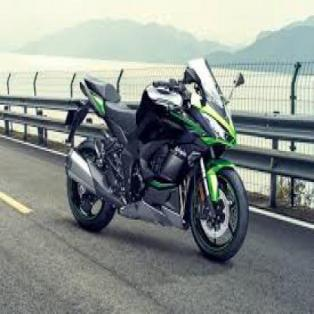Motocicleta: (66, 55, 253, 264)
